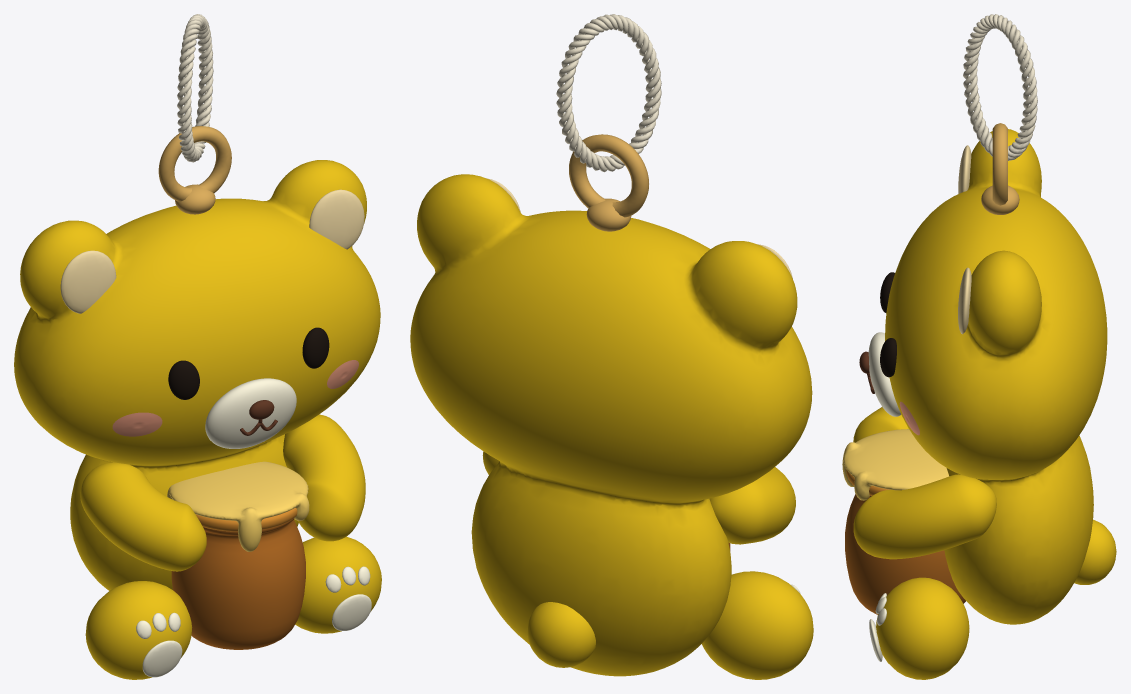
File: Charm_Honey_Cub.fbx
The picture shows the model from 3 angles, left to right: view 1: azimuth 30°, elevation 25°; view 2: azimuth 150°, elevation 25°; view 3: azimuth 270°, elevation 25°; orthographic projection. The views are drawn at different scales.
Visible parts, largest first — view 1: Bear_Sculpt_HeadTorso, Honey_Jar_Closed_Vessel, Arm_Hug_L, Arm_Hug_R, Honey_Cream_Cap, Foot_Seated_L, Foot_Seated_R, Muzzle_Buttercream, Eyelet_Gold_Ring, Ear_Inner_L, Ear_Inner_R, Cord_Braid_Strand_3 (+10 smaller); view 2: Bear_Sculpt_HeadTorso, Foot_Seated_L, Arm_Hug_L, Tail_Soft_Button, Eyelet_Gold_Ring, Cord_Braid_Strand_1, Cord_Braid_Strand_3, Cord_Braid_Strand_2, Eyelet_Boss; view 3: Bear_Sculpt_HeadTorso, Arm_Hug_R, Foot_Seated_R, Honey_Cream_Cap, Honey_Jar_Closed_Vessel, Tail_Soft_Button, Cord_Braid_Strand_1, Cord_Braid_Strand_2, Cord_Braid_Strand_3, Eyelet_Gold_Ring, Muzzle_Buttercream, Arm_Hug_L (+4 smaller).
Boxes of the visible parts, <box> form: Bear_Sculpt_HeadTorso: <box>14,160,380,590</box>; Honey_Jar_Closed_Vessel: <box>171,518,305,649</box>; Arm_Hug_L: <box>80,462,206,571</box>; Arm_Hug_R: <box>283,414,365,541</box>; Honey_Cream_Cap: <box>167,461,309,551</box>; Foot_Seated_L: <box>85,581,192,679</box>; Foot_Seated_R: <box>295,536,381,633</box>; Muzzle_Buttercream: <box>205,378,296,448</box>; Eyelet_Gold_Ring: <box>158,126,231,201</box>; Ear_Inner_L: <box>60,250,116,313</box>; Ear_Inner_R: <box>309,189,364,249</box>; Cord_Braid_Strand_3: <box>177,15,213,161</box>; Bear_Sculpt_HeadTorso: <box>410,174,812,676</box>; Foot_Seated_L: <box>702,571,813,679</box>; Arm_Hug_L: <box>709,467,795,544</box>; Tail_Soft_Button: <box>527,602,595,667</box>; Eyelet_Gold_Ring: <box>569,134,648,217</box>; Cord_Braid_Strand_1: <box>556,14,661,170</box>; Cord_Braid_Strand_3: <box>557,15,661,172</box>; Cord_Braid_Strand_2: <box>556,14,660,171</box>; Eyelet_Boss: <box>586,198,631,231</box>; Bear_Sculpt_HeadTorso: <box>885,129,1107,624</box>; Arm_Hug_R: <box>853,474,996,559</box>; Foot_Seated_R: <box>876,577,969,679</box>; Honey_Cream_Cap: <box>842,429,949,500</box>; Honey_Jar_Closed_Vessel: <box>845,494,965,614</box>; Tail_Soft_Button: <box>1074,519,1116,584</box>; Cord_Braid_Strand_1: <box>963,15,1037,160</box>; Cord_Braid_Strand_2: <box>963,14,1037,160</box>; Cord_Braid_Strand_3: <box>963,14,1037,157</box>; Eyelet_Gold_Ring: <box>992,123,1007,205</box>; Muzzle_Buttercream: <box>868,332,901,416</box>; Arm_Hug_L: <box>853,407,908,442</box>.
Size of the model in its own units: 2.38 by 4.04 by 1.64.
